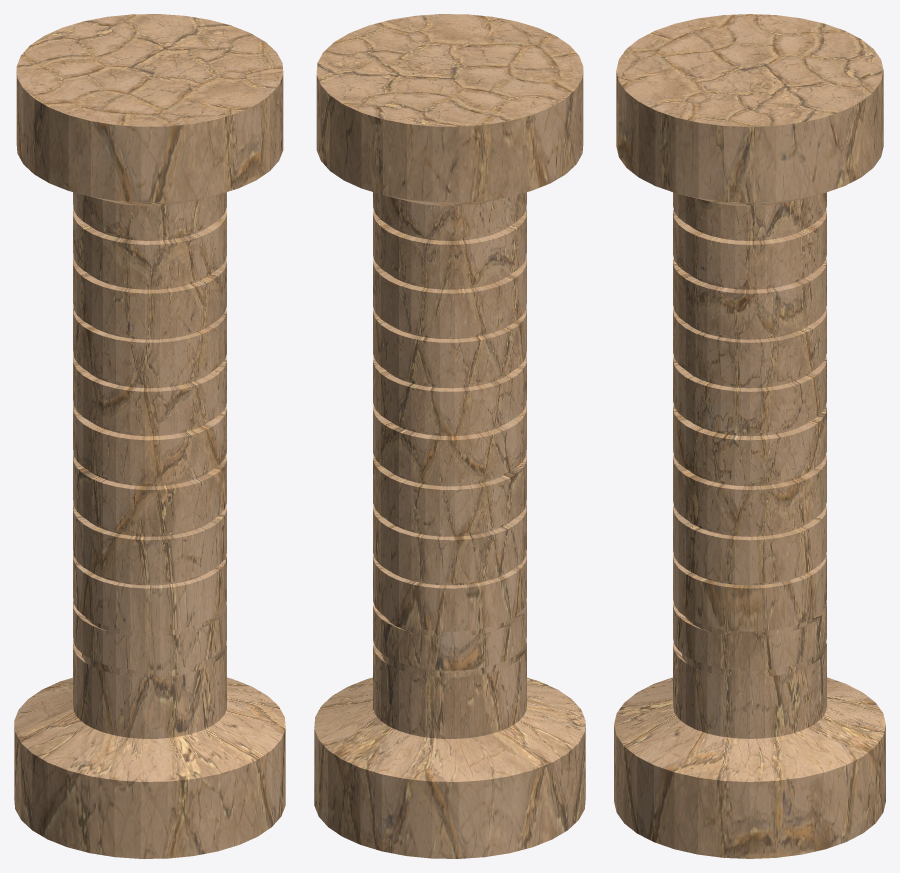
The model's file is PILAR.fbx.
The picture shows the model from 3 angles, left to right: view 1: azimuth 30°, elevation 25°; view 2: azimuth 150°, elevation 25°; view 3: azimuth 270°, elevation 25°; orthographic projection.
Parts seen in each view (by area): view 1: Cylinder; view 2: Cylinder; view 3: Cylinder.
Boxes of the visible parts, box(x1,y1,x2,y2) form: Cylinder: box(14, 14, 285, 858); Cylinder: box(314, 14, 585, 858); Cylinder: box(614, 14, 885, 858).
Bounding box in the file's own units: 353 × 1046 × 353.
